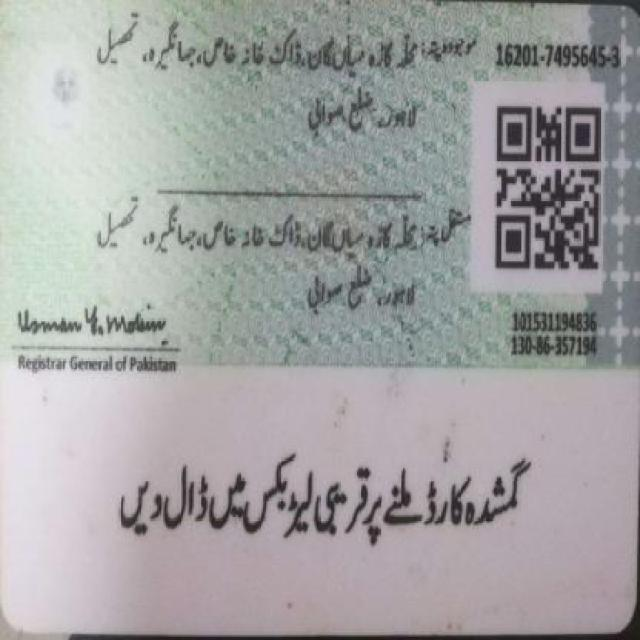Back: (6, 11, 628, 614)
